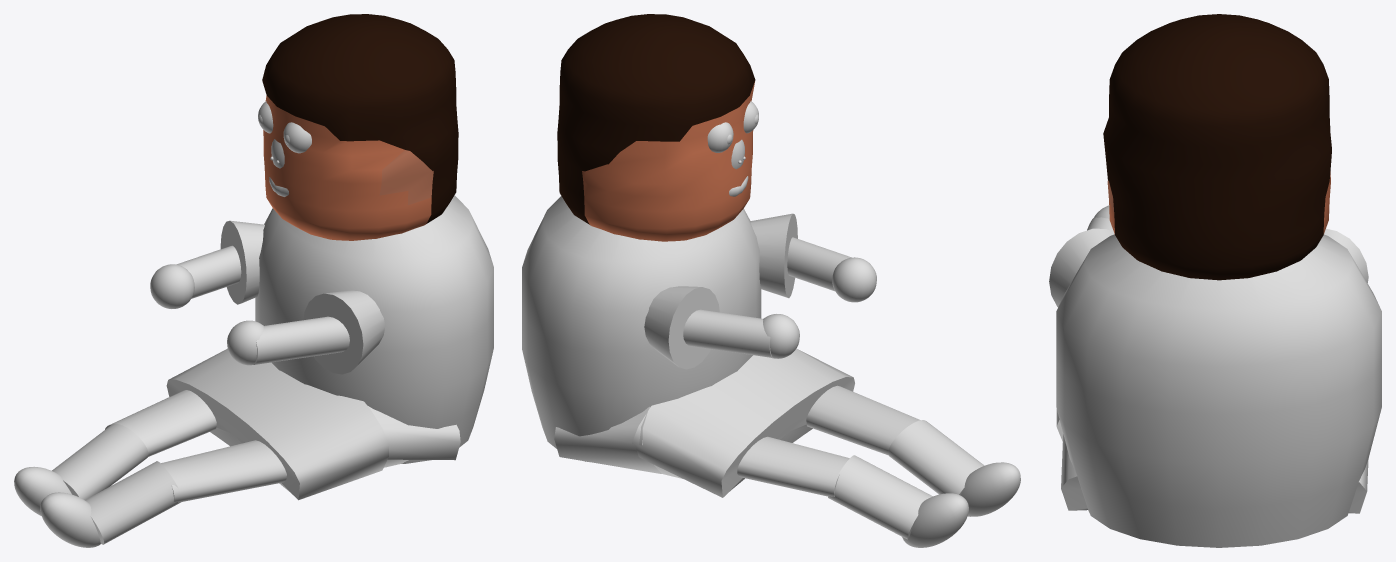
File: jackV1.fbx
3 renders of one model, left to right at view 1: azimuth 30°, elevation 25°; view 2: azimuth 150°, elevation 25°; view 3: azimuth 270°, elevation 25°, orthographic. The views are drawn at different scales.
Parts seen in each view (by area): view 1: pSphere15, pCylinder17, pCylinder22, pCylinder31, pCylinder32, pCylinder19, pCylinder26, pCylinder21, pCylinder24, pCylinder30, pSphere24, pCylinder23 (+5 smaller); view 2: pSphere15, pCylinder17, pCylinder22, pCylinder19, pCylinder21, pCylinder31, pCylinder32, pCylinder23, pCylinder30, pCylinder25, pCylinder26, pSphere21 (+5 smaller); view 3: pCylinder17, pSphere15, pCylinder26, pCylinder30, pCylinder23.
Boxes of the visible parts, <box> form: pSphere15: <box>262,14,458,240</box>; pCylinder17: <box>255,195,493,463</box>; pCylinder22: <box>166,348,388,500</box>; pCylinder31: <box>161,440,286,502</box>; pCylinder32: <box>85,461,181,544</box>; pCylinder19: <box>52,423,148,500</box>; pCylinder26: <box>303,290,385,374</box>; pCylinder21: <box>105,390,216,456</box>; pCylinder24: <box>253,316,349,364</box>; pCylinder30: <box>368,406,460,467</box>; pSphere24: <box>40,492,100,547</box>; pCylinder23: <box>220,220,264,304</box>; pSphere15: <box>557,14,755,241</box>; pCylinder17: <box>522,196,761,461</box>; pCylinder22: <box>632,348,854,497</box>; pCylinder19: <box>828,455,932,539</box>; pCylinder21: <box>737,436,849,496</box>; pCylinder31: <box>806,385,920,455</box>; pCylinder32: <box>888,420,984,495</box>; pCylinder23: <box>644,286,719,369</box>; pCylinder30: <box>554,406,661,473</box>; pCylinder25: <box>683,309,772,357</box>; pCylinder26: <box>750,213,797,298</box>; pSphere21: <box>902,493,968,547</box>; pCylinder17: <box>1056,234,1381,547</box>; pSphere15: <box>1103,14,1331,280</box>; pCylinder26: <box>1049,228,1114,307</box>; pCylinder30: <box>1061,434,1368,513</box>; pCylinder23: <box>1324,228,1368,282</box>.
Size of the model in its own units: 36.6 by 19.89 by 33.97.
